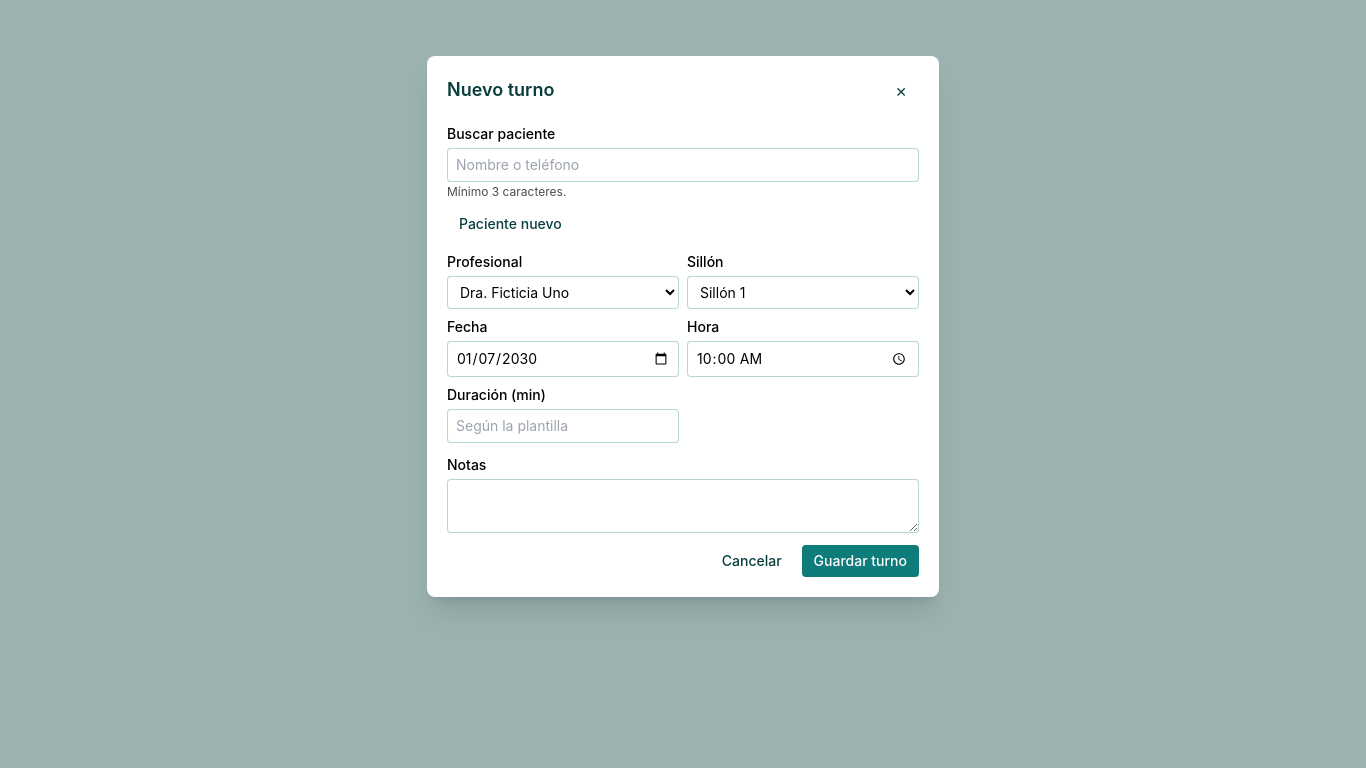
Test case: AppointmentForm — alta › sin paciente no envía
Click the button "Guardar turno".
click(860, 561)  # box [802, 545, 919, 577]
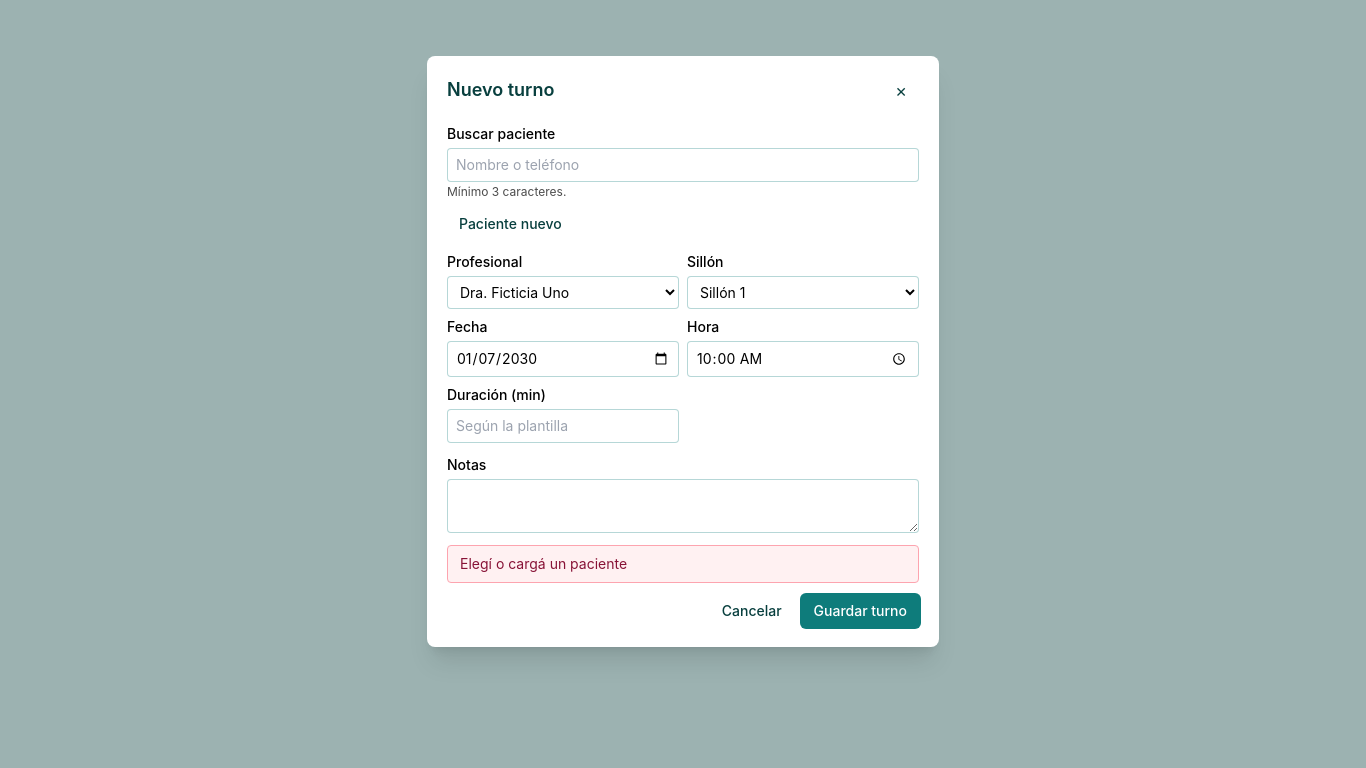
Check: the message reads "Elegí o cargá un paciente", box [460, 555, 627, 572]
